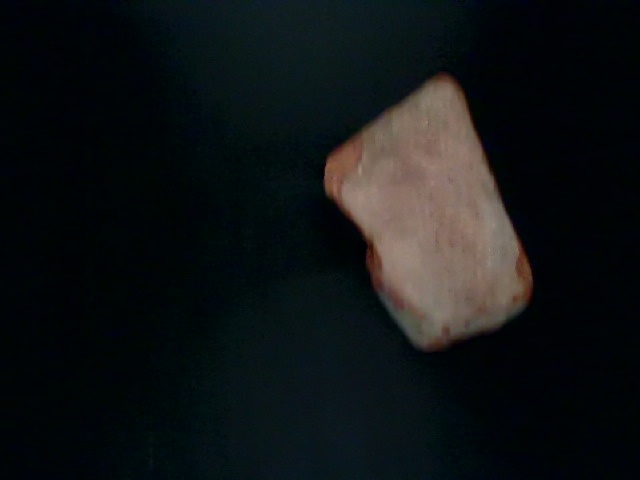KHSLJ: (1, 117, 286, 413)
